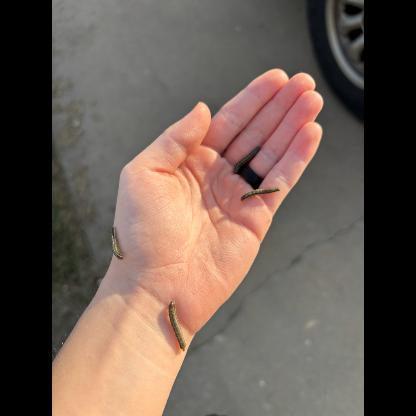Fall Armyworm Larvae: (166, 298, 188, 354), (232, 145, 262, 175), (239, 185, 281, 203), (108, 226, 124, 262)
